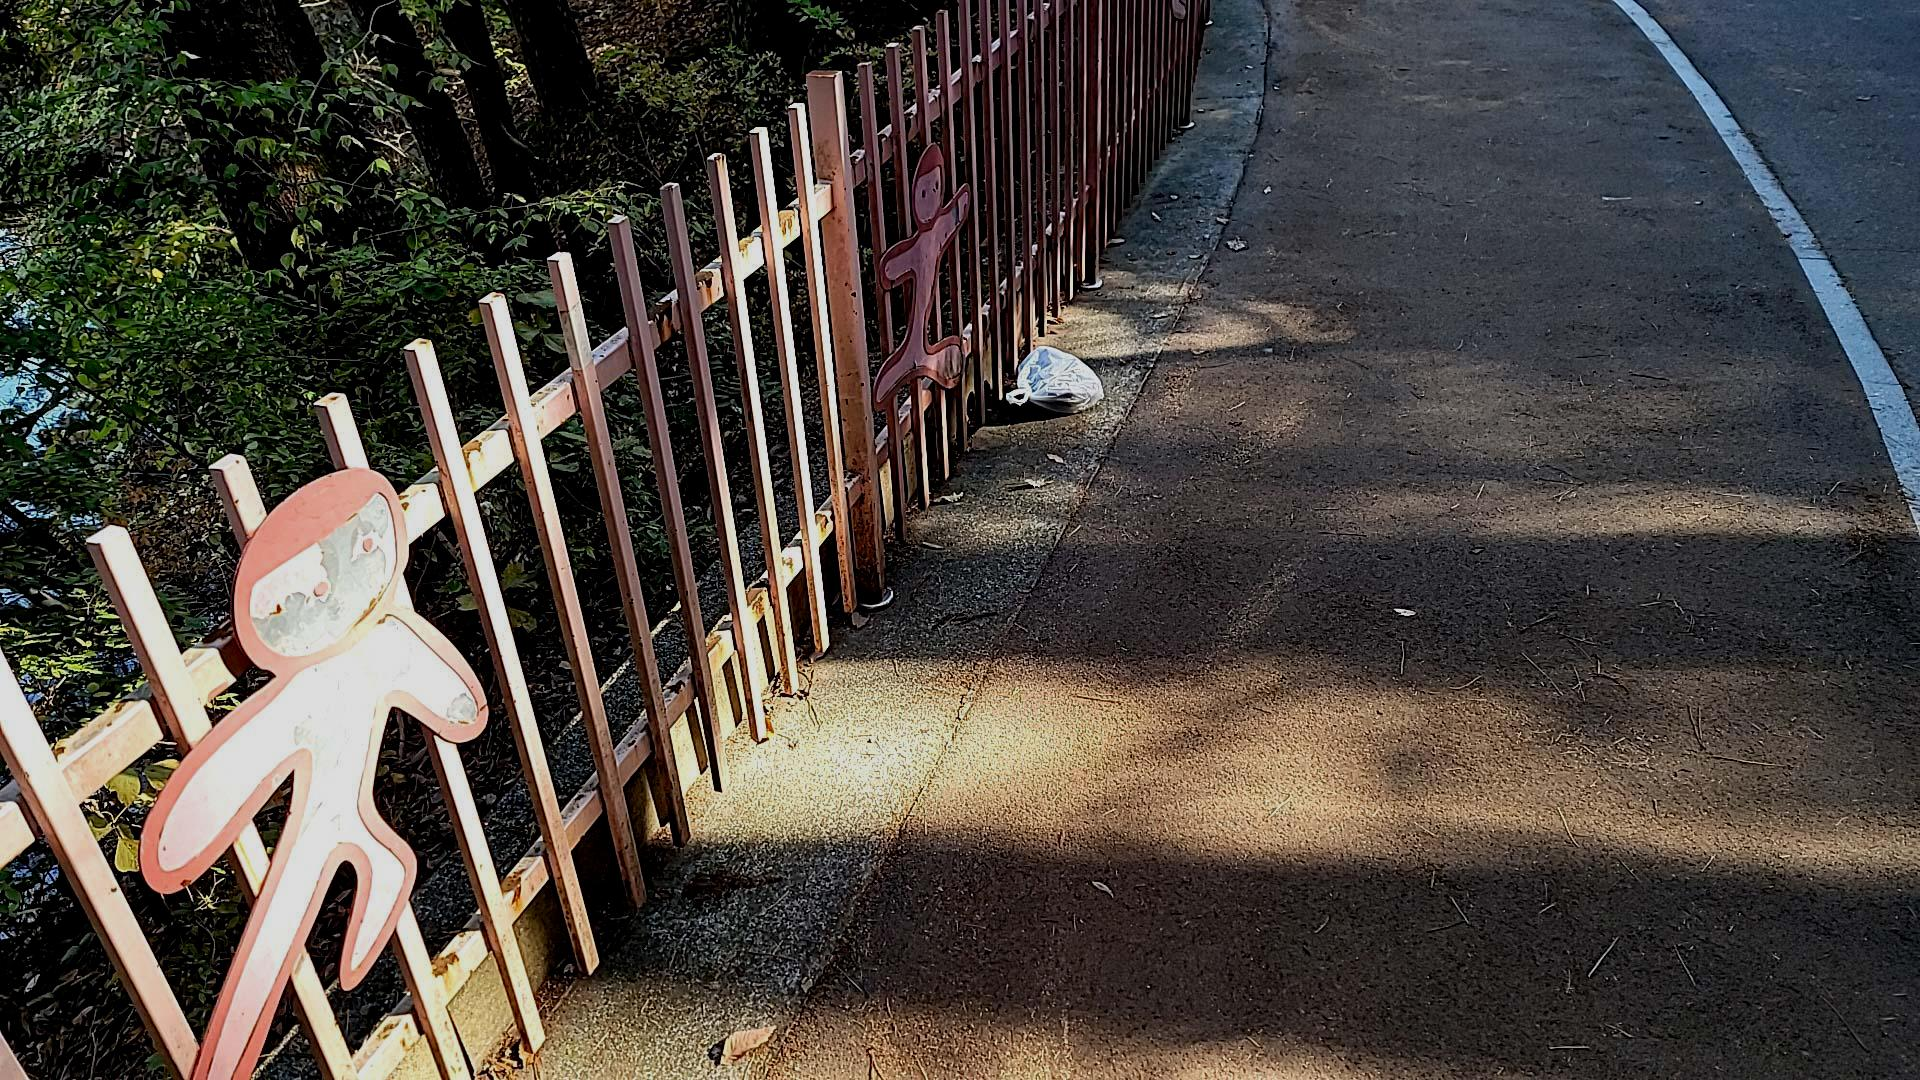white_bag: (997, 340, 1109, 422)
